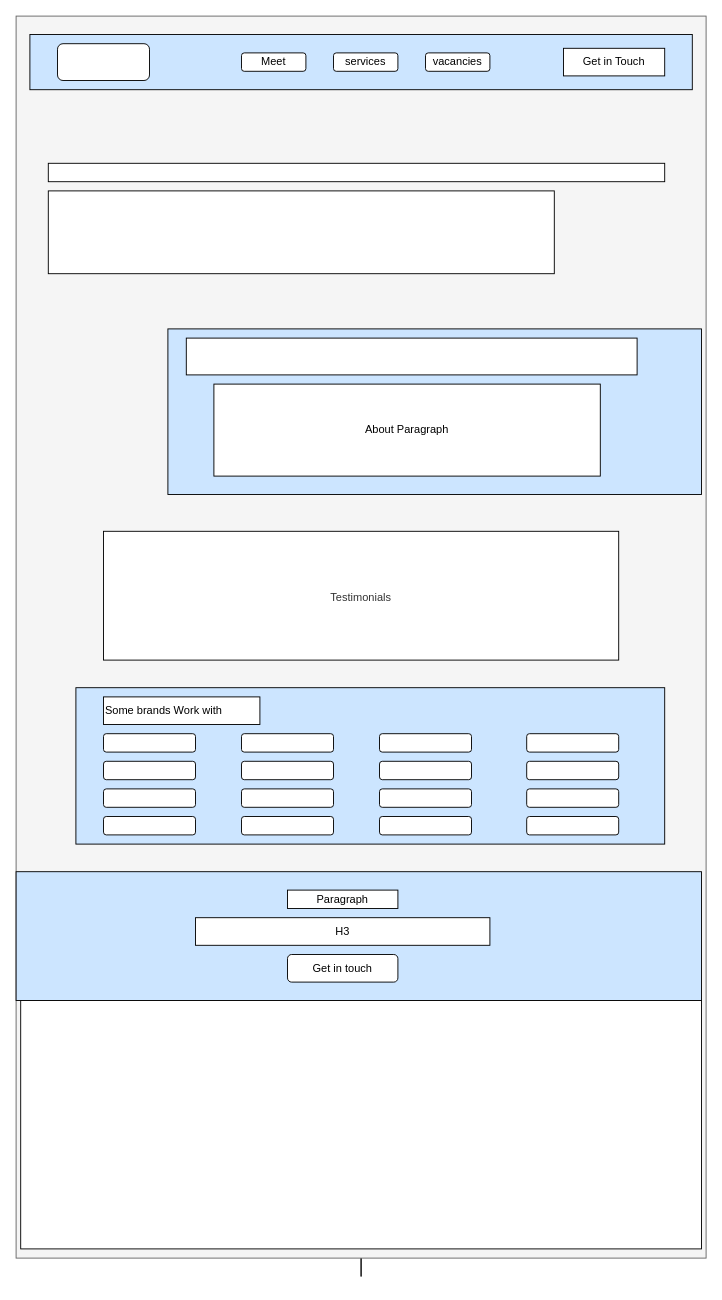
Some shapes in this 722 by 1300 pixel diagram are drawn without their labels. The box of each missing label's shape, as (x1, y1, x2, y2) in pixels:
Footer: (20, 1000, 702, 1249)
LOGO: (57, 43, 150, 80)
Pharagraph: (47, 162, 665, 182)
Topic: (185, 337, 637, 375)
Topic (H1): (47, 190, 554, 274)
